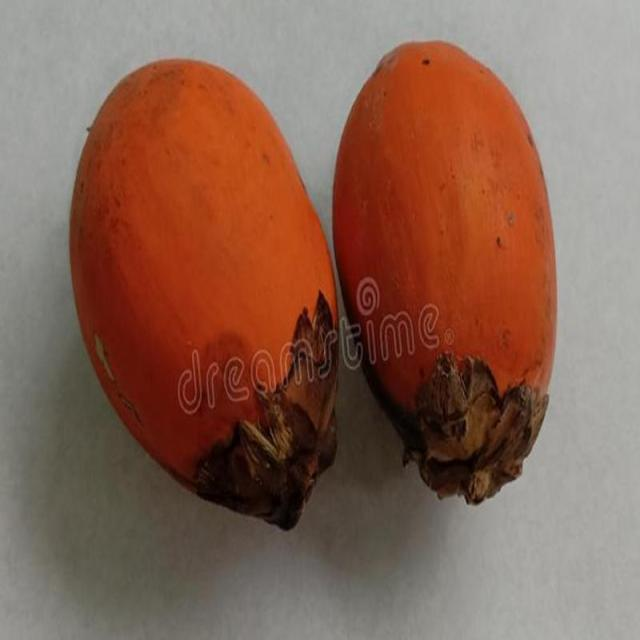good: (68, 60, 360, 534), (332, 41, 558, 508)
